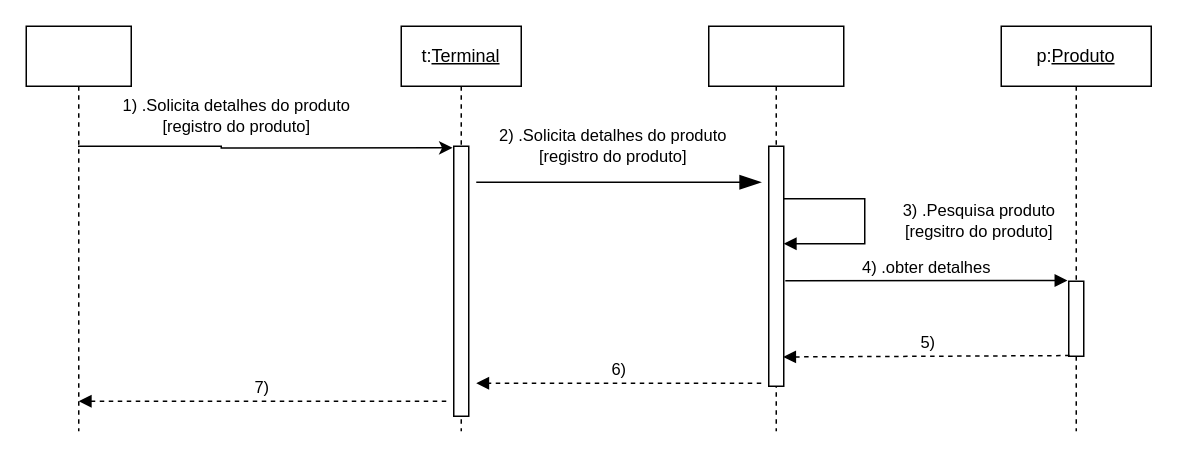
Image size: 1178x458. Some labels were removed from this diagram. The shapes that lost their labels are listed below. From the top down, each one's box as (x1, y1, x2, y2) in pixels, then its label:
(25, 25, 131, 431): «Actor» : Visitante
(707, 25, 844, 431): c: Controlador
